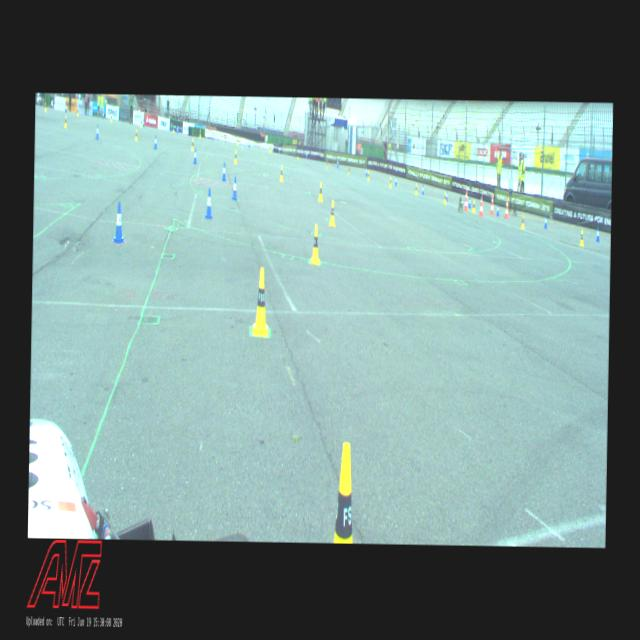blue_cone: (112, 202, 125, 242), (205, 188, 212, 218), (232, 176, 238, 200), (222, 162, 226, 181), (193, 148, 197, 164), (596, 226, 600, 241), (95, 124, 99, 139), (544, 215, 547, 228), (496, 202, 498, 218), (154, 134, 156, 149), (468, 195, 470, 208), (422, 184, 424, 195), (394, 176, 396, 185), (336, 159, 338, 168), (365, 167, 367, 176)
large_orange_cone: (463, 188, 468, 210), (489, 194, 494, 214), (478, 194, 482, 216), (504, 198, 508, 218)
yellow_cone: (333, 442, 354, 542), (252, 267, 270, 336), (310, 224, 320, 264), (329, 198, 335, 226), (318, 182, 322, 202), (579, 228, 583, 246), (279, 165, 283, 181), (234, 150, 237, 164), (521, 214, 524, 228), (64, 114, 67, 127), (190, 138, 193, 150), (134, 129, 137, 141), (443, 191, 446, 203), (414, 182, 416, 195), (389, 175, 391, 188), (472, 199, 474, 212), (367, 170, 369, 181), (44, 102, 46, 112), (348, 164, 350, 174), (198, 129, 200, 138), (76, 107, 78, 116), (110, 113, 112, 122)
